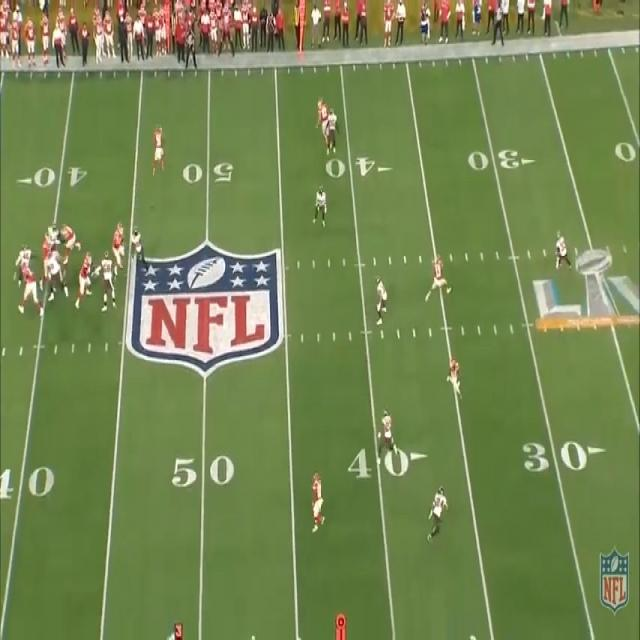players: (368, 403, 404, 466), (14, 258, 46, 322), (422, 248, 455, 308), (424, 480, 451, 549), (41, 247, 70, 304), (95, 250, 120, 311), (308, 465, 328, 535), (371, 275, 392, 333), (443, 354, 466, 406), (59, 222, 84, 268), (152, 120, 169, 184), (111, 219, 129, 279), (76, 248, 94, 308), (311, 182, 330, 232), (14, 240, 34, 287), (550, 231, 574, 269), (316, 91, 330, 152), (131, 222, 146, 275), (326, 101, 339, 158), (43, 219, 60, 255), (40, 235, 57, 271)
